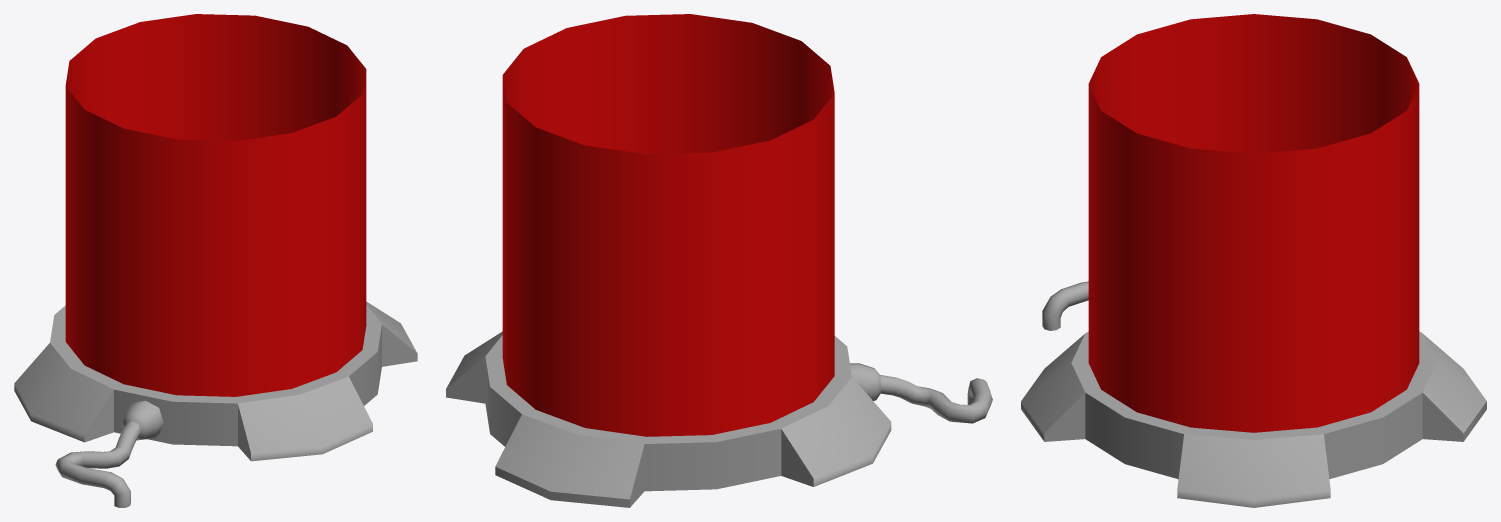
File: chnage machine.fbx
3 renders of one model, left to right at view 1: azimuth 30°, elevation 25°; view 2: azimuth 150°, elevation 25°; view 3: azimuth 270°, elevation 25°, orthographic. The views are drawn at different scales.
Visible parts, largest first — view 1: pCube3; view 2: pCube3; view 3: pCube3.
Boxes of the visible parts, bbox=[...] form: pCube3: bbox=[14, 14, 417, 507]; pCube3: bbox=[446, 14, 992, 507]; pCube3: bbox=[1021, 14, 1486, 507].
Size of the model in its own units: 2.81 by 2.07 by 2.55.
